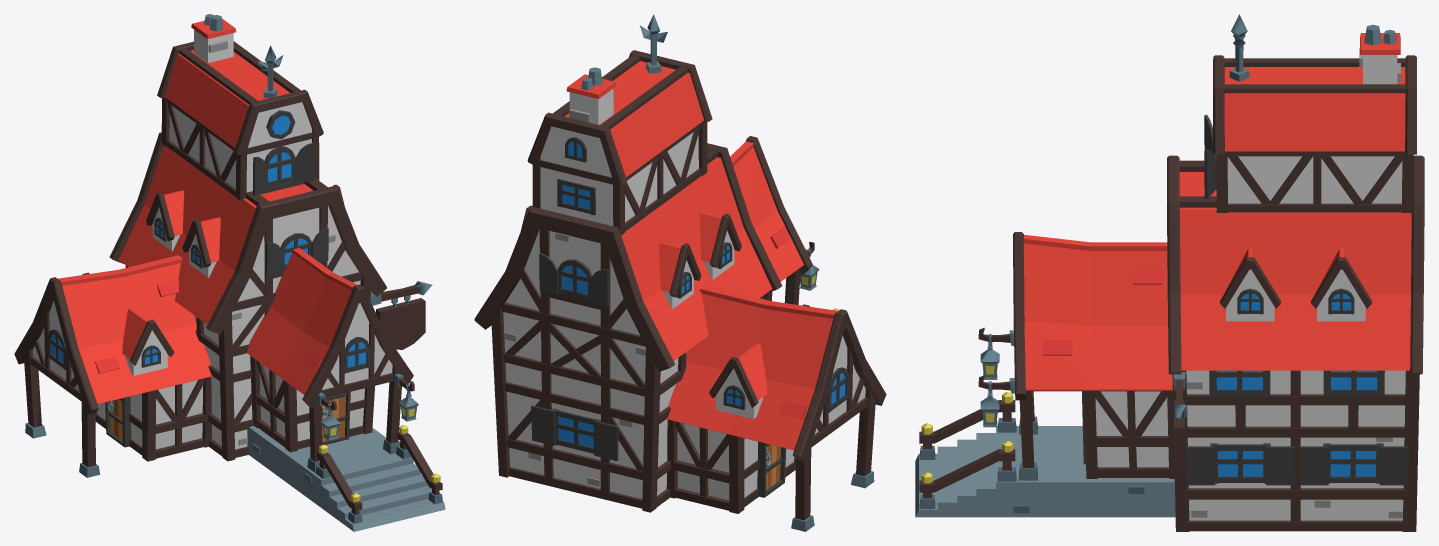
Rendered from House_4-5.fbx.
3 renders of one model, left to right at view 1: azimuth 30°, elevation 25°; view 2: azimuth 150°, elevation 25°; view 3: azimuth 270°, elevation 25°, orthographic. The views are drawn at different scales.
Parts seen in each view (by area): view 1: 5; view 2: 5; view 3: 5.
Part boxes in pixels (<box>): 5: <box>14,14,445,531</box>; 5: <box>474,14,886,531</box>; 5: <box>915,14,1424,531</box>.
Bounding box in the file's own units: 1051 × 1145 × 1110.
